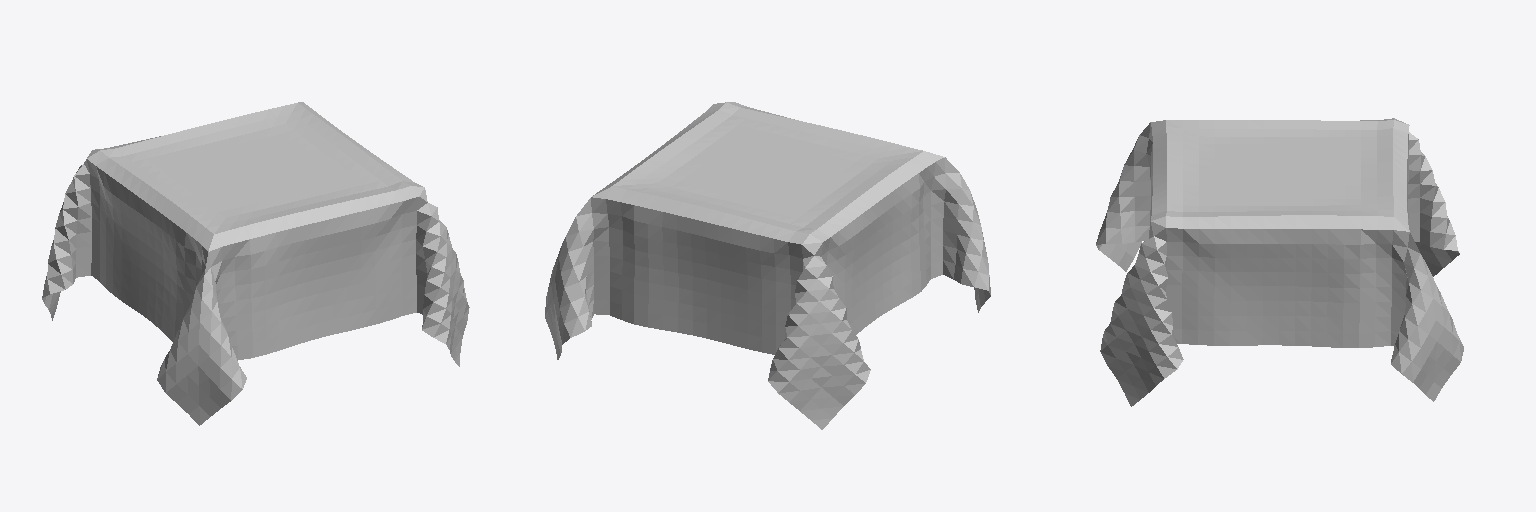
File: nappe.obj
3 views of the same model, side by side, from view 1: azimuth 30°, elevation 25°; view 2: azimuth 150°, elevation 25°; view 3: azimuth 270°, elevation 25° (orthographic).
Visible parts, largest first — view 1: Plane; view 2: Plane; view 3: Plane.
Part boxes in pixels (x1,y1,x2,y2): Plane: (42,102,469,425); Plane: (545,102,990,429); Plane: (1096,118,1463,406).
Size of the model in its own units: 3.09 by 1.63 by 3.09.